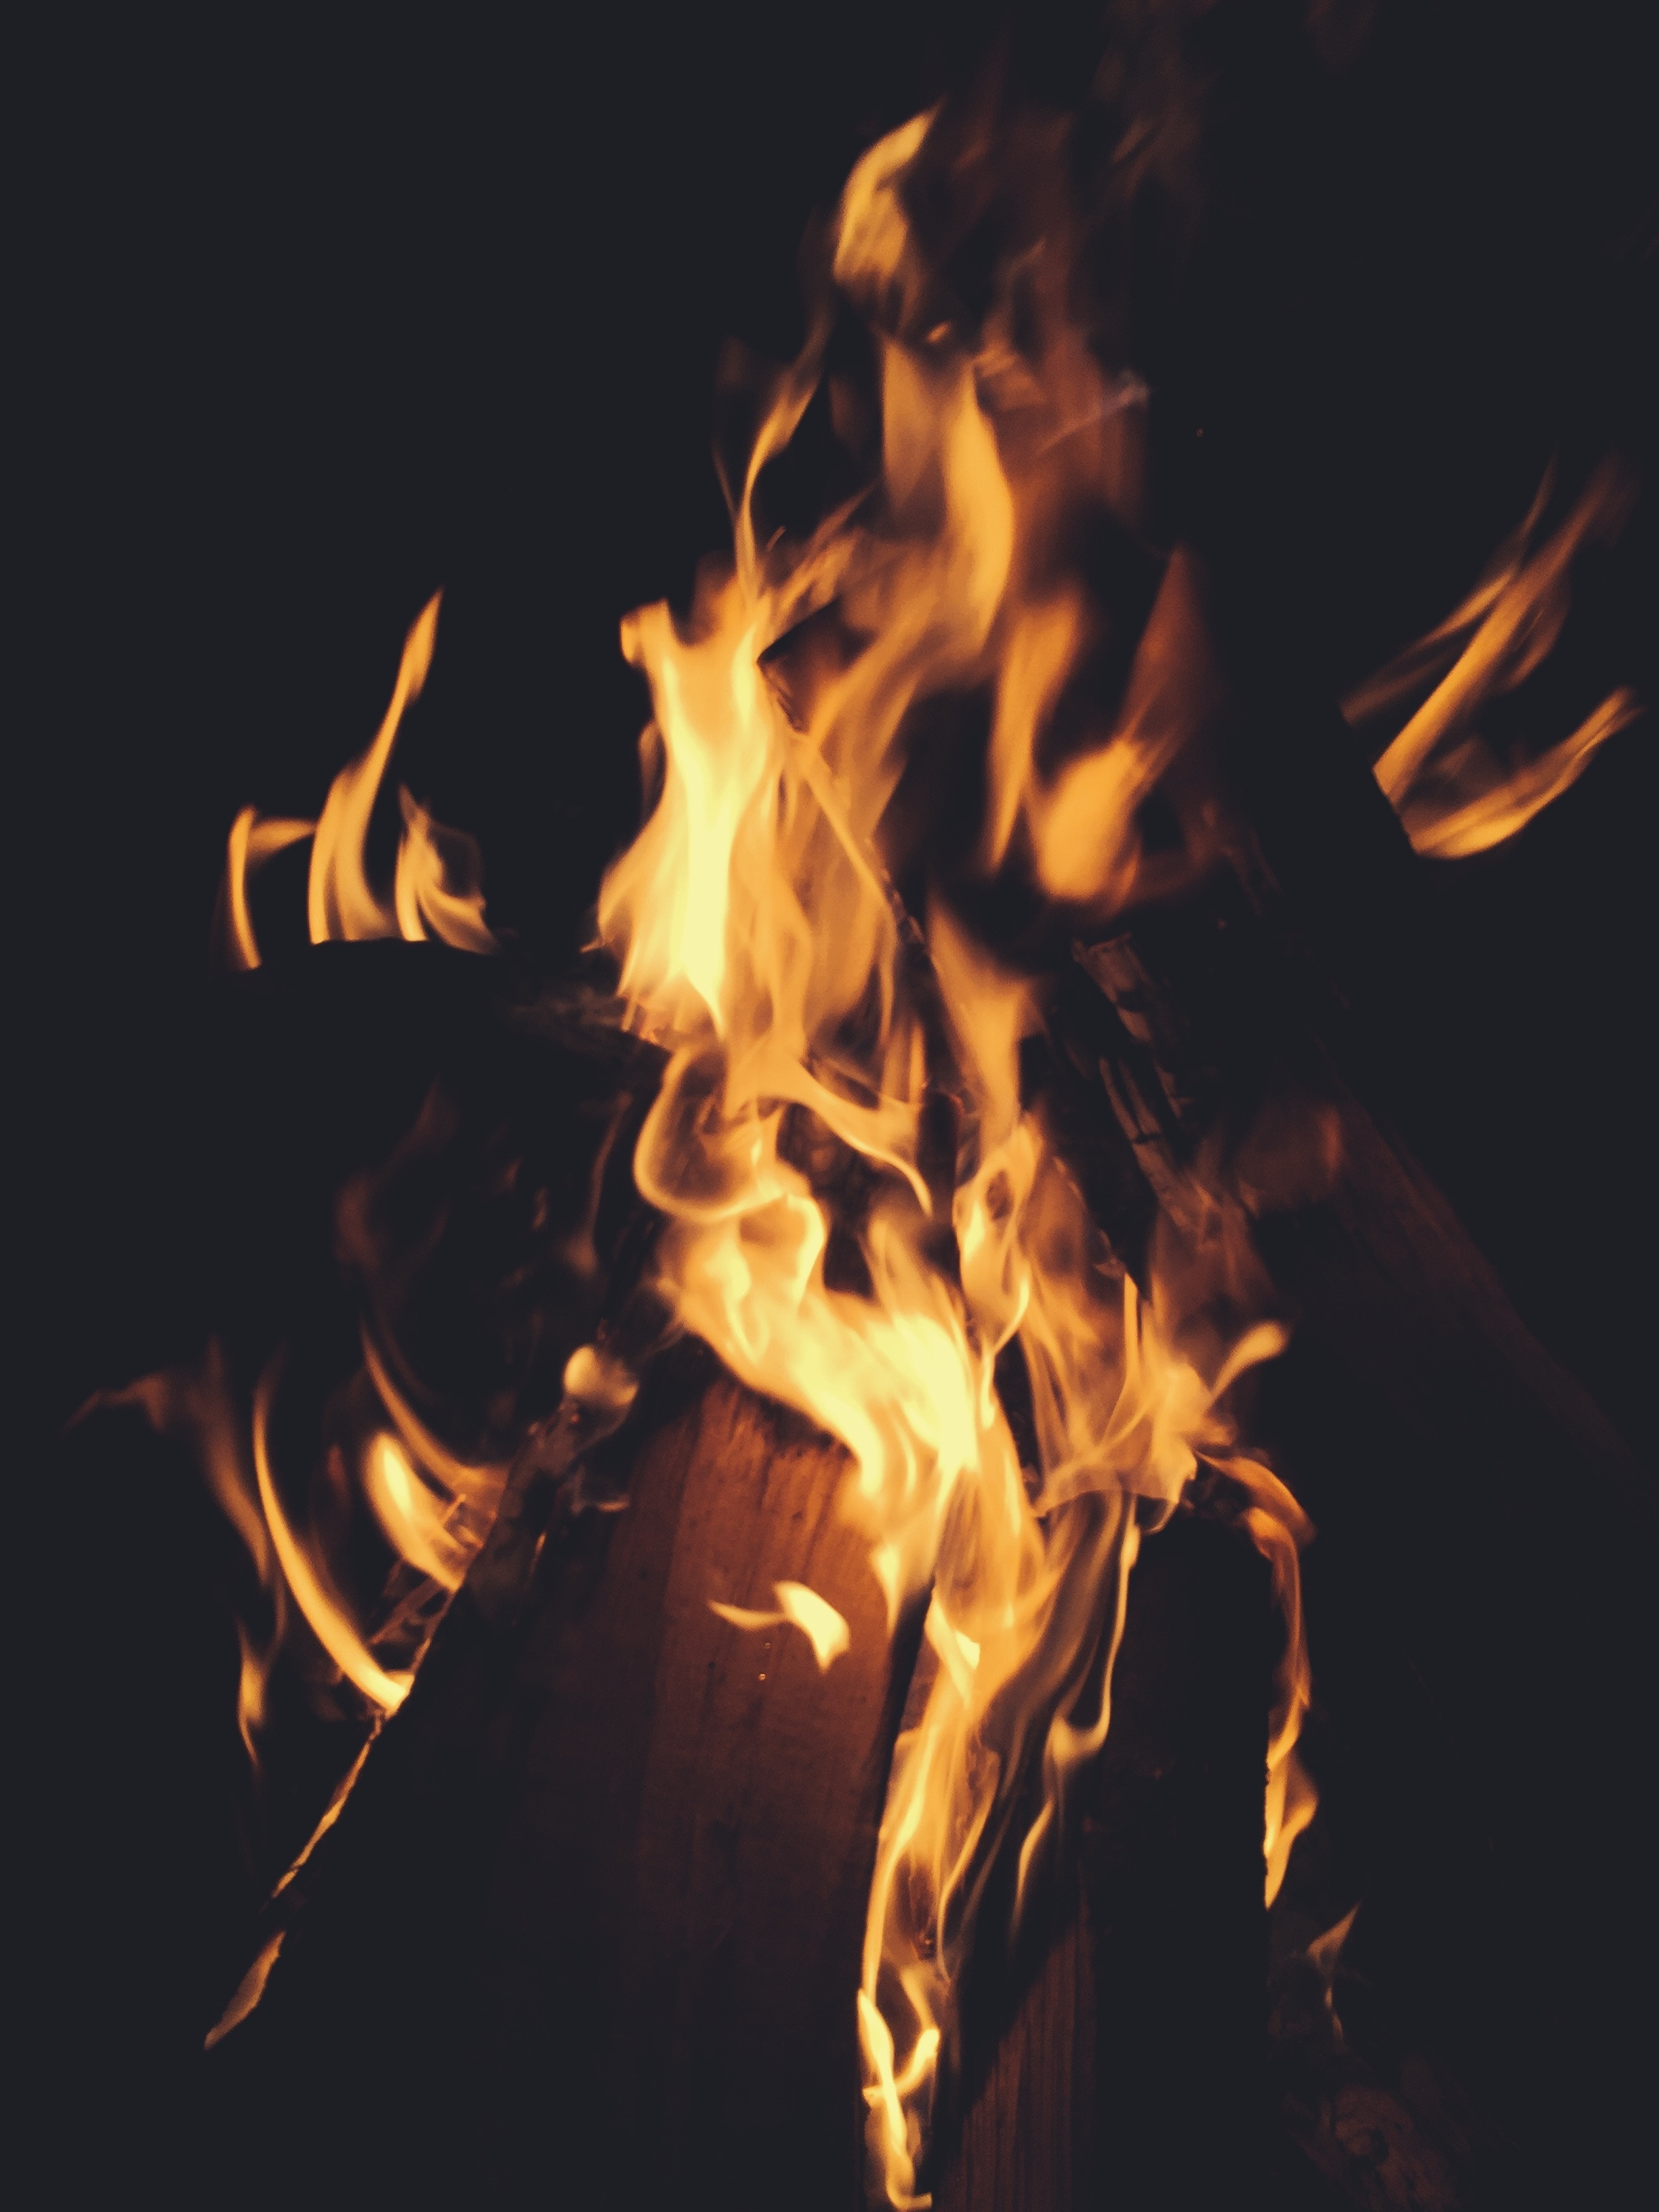fire: (200, 235, 1499, 2120)
